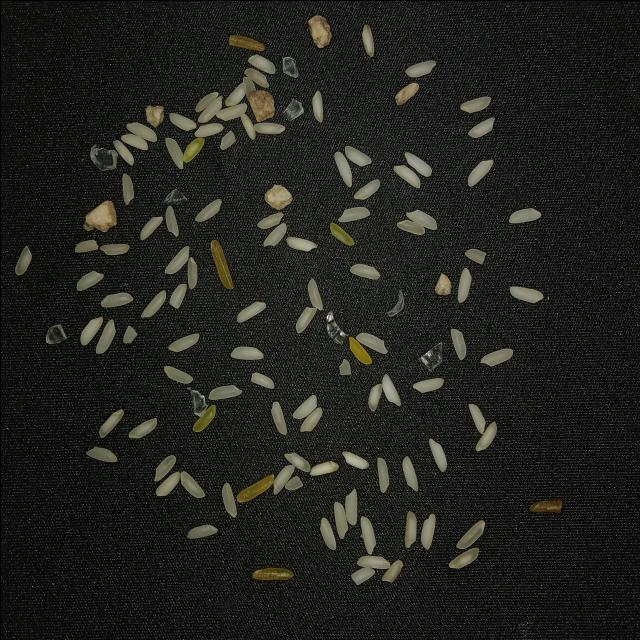Broken: (234, 474, 274, 502), (347, 336, 371, 364), (329, 221, 353, 245), (228, 34, 264, 50), (182, 136, 204, 162), (380, 558, 402, 582), (250, 567, 292, 579), (528, 499, 562, 512), (350, 566, 374, 584), (249, 371, 274, 387), (464, 248, 486, 264), (219, 129, 235, 149), (282, 475, 302, 491), (122, 324, 136, 342), (338, 358, 351, 374)
Full: (209, 238, 233, 288), (455, 518, 485, 548), (178, 470, 204, 498), (163, 245, 189, 273), (140, 289, 166, 317), (467, 158, 493, 186), (94, 317, 114, 353), (98, 407, 122, 437), (78, 316, 102, 346), (355, 331, 387, 353), (126, 416, 158, 438), (154, 470, 180, 496), (290, 393, 316, 419), (192, 404, 216, 432), (404, 208, 436, 229), (193, 198, 221, 222), (403, 152, 431, 176), (392, 164, 420, 188), (333, 150, 351, 187), (236, 300, 266, 322), (272, 464, 294, 494), (448, 546, 478, 568), (474, 420, 496, 450), (358, 516, 375, 554), (152, 453, 175, 481), (125, 121, 156, 141), (294, 306, 316, 334), (466, 116, 494, 138), (479, 348, 513, 366), (318, 516, 336, 550), (268, 400, 286, 434), (164, 136, 183, 168), (381, 373, 400, 405), (214, 102, 247, 120), (84, 444, 117, 462), (429, 439, 447, 472), (332, 501, 348, 538), (352, 178, 380, 199), (343, 145, 371, 166), (246, 61, 274, 82), (75, 270, 104, 290), (166, 332, 198, 350), (262, 222, 286, 246), (138, 215, 162, 239), (402, 454, 418, 490), (419, 512, 435, 548), (404, 59, 436, 77), (291, 403, 316, 426), (112, 139, 134, 165), (243, 66, 269, 88), (300, 405, 322, 431), (282, 452, 310, 472), (459, 94, 490, 112), (466, 402, 484, 433), (193, 90, 218, 112), (306, 276, 322, 310), (506, 207, 540, 223), (336, 206, 370, 222), (508, 286, 542, 302), (220, 482, 236, 516), (284, 236, 316, 253), (162, 364, 192, 382), (456, 266, 471, 302), (247, 54, 274, 74), (449, 327, 465, 360), (207, 384, 242, 399), (167, 111, 196, 129), (100, 290, 132, 306), (120, 132, 148, 150), (224, 82, 245, 105), (411, 377, 443, 392), (349, 263, 379, 279), (13, 246, 29, 276), (396, 218, 426, 234), (229, 345, 263, 359), (356, 554, 390, 568), (168, 282, 186, 308), (342, 450, 368, 468), (164, 203, 178, 236), (344, 487, 356, 525), (404, 510, 416, 548), (308, 460, 338, 475), (193, 122, 223, 137), (185, 524, 217, 538), (256, 211, 282, 228), (239, 112, 255, 139), (376, 458, 388, 493), (367, 383, 382, 411), (121, 172, 133, 205), (98, 242, 128, 255), (252, 122, 284, 134), (361, 24, 373, 56), (311, 90, 322, 122), (187, 255, 197, 289), (242, 76, 256, 100), (72, 239, 97, 252)
